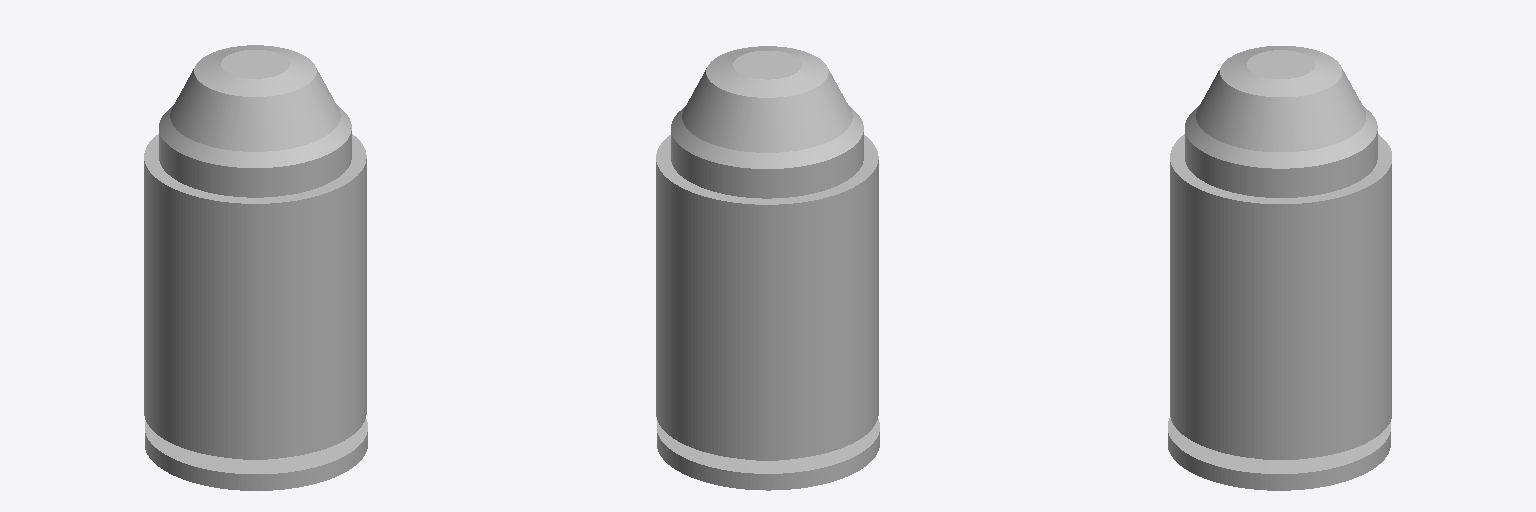
File: 9bulllet.obj
The picture shows the model from 3 angles: view 1: azimuth 30°, elevation 25°; view 2: azimuth 150°, elevation 25°; view 3: azimuth 270°, elevation 25°; orthographic projection.
Visible parts, largest first — view 1: Cylinder01; view 2: Cylinder01; view 3: Cylinder01.
Part boxes in pixels (left/top/right/bottom): Cylinder01: left=144, top=45, right=367, bottom=490; Cylinder01: left=656, top=46, right=879, bottom=490; Cylinder01: left=1168, top=46, right=1391, bottom=490.
Size of the model in its own units: 44.86 by 84.72 by 45.13.